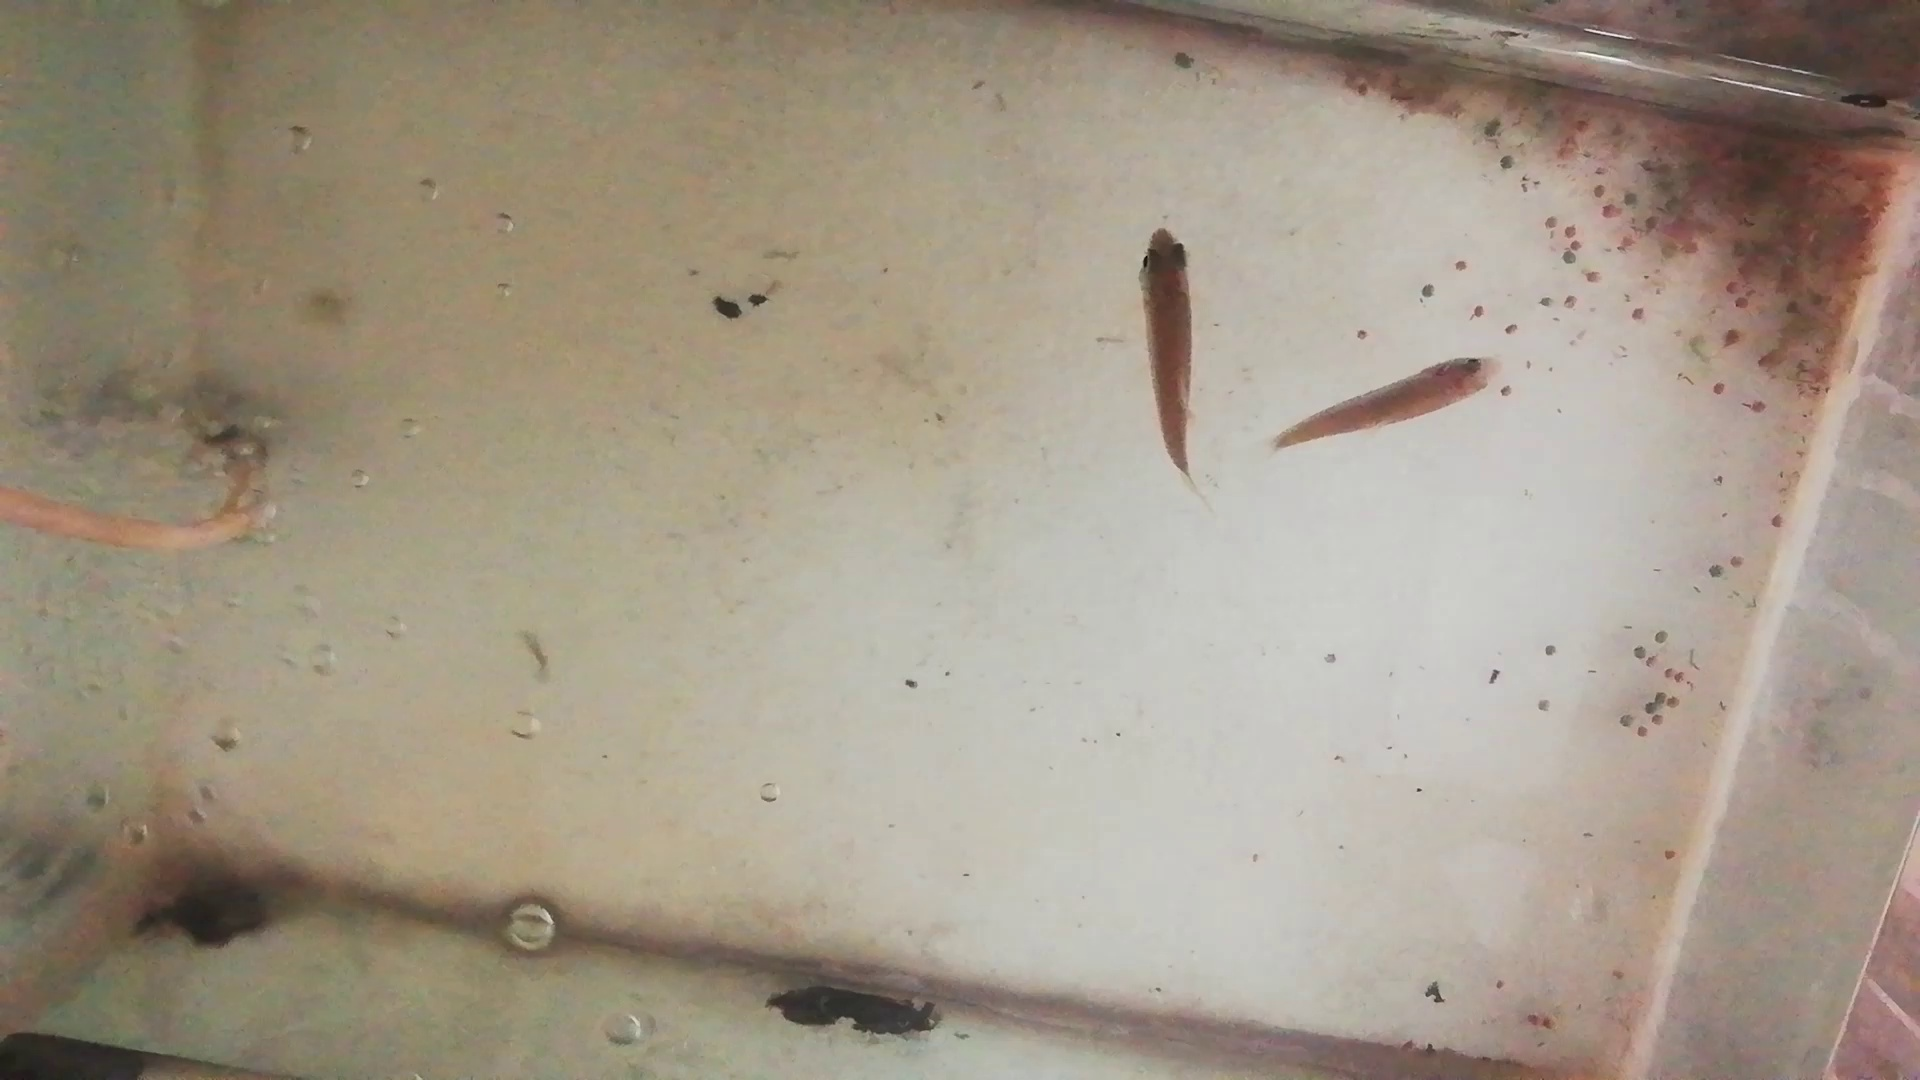fish: (1278, 352, 1503, 454), (1133, 229, 1208, 468)
